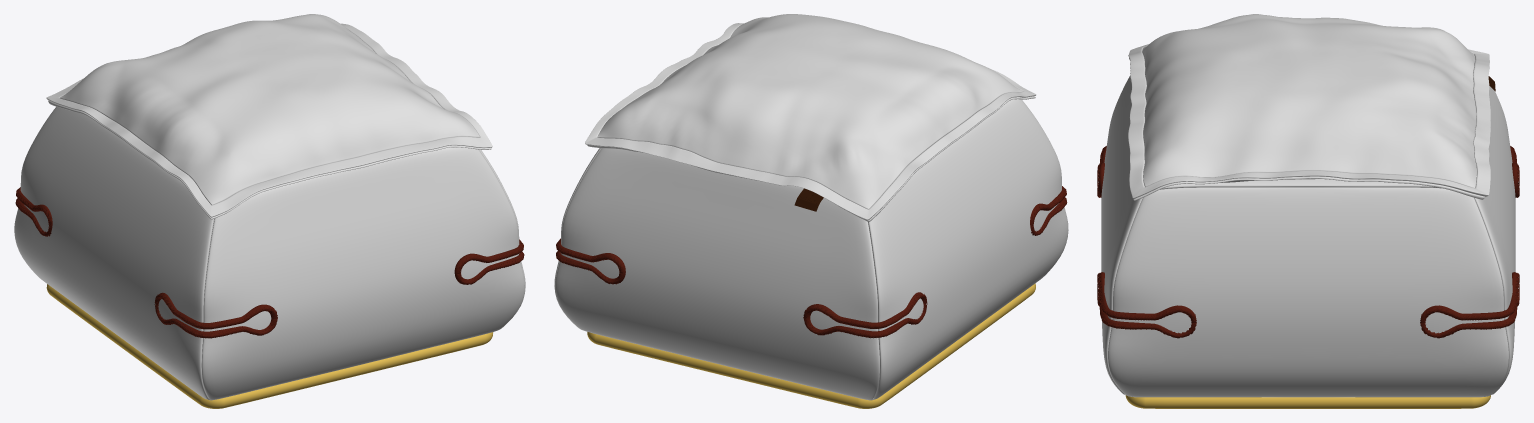
The model's file is SLN_GRAND_THEORY.glb.
3 views of the same model, side by side, from view 1: azimuth 30°, elevation 25°; view 2: azimuth 150°, elevation 25°; view 3: azimuth 270°, elevation 25° (orthographic). The views are drawn at different scales.
Visible parts, largest first — view 1: GRAND_THEORY; view 2: GRAND_THEORY; view 3: GRAND_THEORY.
Boxes of the visible parts, <box> form: GRAND_THEORY: <box>14,14,525,408</box>; GRAND_THEORY: <box>554,14,1068,408</box>; GRAND_THEORY: <box>1097,14,1519,408</box>.
Bounding box in the file's own units: 0.7992 × 0.5802 × 0.8061.
